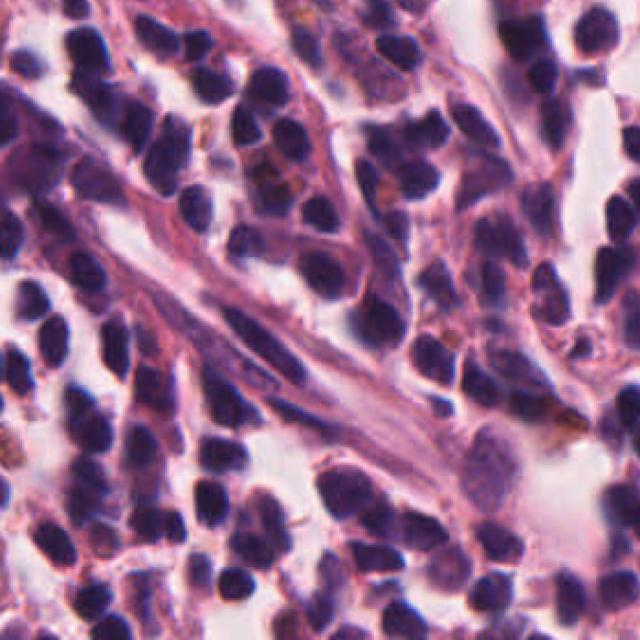fibroblast: (160, 297, 279, 403), (216, 299, 310, 387), (260, 394, 343, 443), (279, 18, 321, 78), (130, 312, 167, 361)
macrophage: (337, 33, 411, 106), (515, 170, 567, 250), (453, 159, 513, 213), (471, 212, 528, 266), (429, 542, 469, 587)
plasma_cell: (202, 376, 257, 434), (128, 354, 176, 418), (61, 16, 110, 78), (347, 297, 402, 352), (392, 500, 447, 554), (315, 467, 370, 521), (95, 308, 138, 376), (495, 9, 546, 64), (26, 512, 75, 565), (462, 565, 512, 616), (248, 162, 293, 217), (471, 511, 521, 560), (125, 565, 161, 633), (570, 0, 616, 53), (343, 534, 403, 574), (592, 562, 640, 611), (194, 427, 244, 474), (130, 7, 176, 58), (378, 594, 429, 640), (488, 343, 539, 388), (403, 332, 449, 381), (29, 195, 75, 244), (66, 571, 112, 620), (189, 470, 231, 523), (589, 244, 625, 305), (171, 179, 211, 232), (293, 252, 343, 294), (356, 489, 396, 540), (416, 257, 453, 312), (33, 308, 68, 363), (301, 182, 339, 232), (469, 261, 506, 312), (601, 480, 638, 531), (11, 277, 51, 323), (534, 95, 567, 150), (361, 230, 398, 279), (524, 53, 567, 95), (70, 73, 112, 115), (189, 64, 231, 106), (403, 108, 444, 150), (75, 452, 116, 494), (460, 359, 497, 405), (275, 113, 312, 159), (224, 532, 270, 569), (229, 98, 266, 144), (248, 64, 288, 106), (158, 113, 194, 159), (601, 190, 633, 241), (141, 142, 174, 191), (378, 33, 420, 69), (68, 250, 101, 295), (394, 159, 435, 195), (226, 221, 262, 261), (314, 547, 348, 587), (266, 487, 288, 547), (180, 26, 216, 62), (359, 124, 392, 160), (303, 583, 334, 620), (510, 388, 550, 416), (121, 106, 143, 155), (385, 204, 413, 241), (64, 379, 95, 412), (132, 511, 165, 542), (123, 430, 156, 461), (180, 551, 207, 587), (352, 159, 376, 199), (79, 418, 112, 447), (222, 567, 249, 598), (565, 330, 592, 361), (165, 507, 183, 549), (530, 263, 557, 290), (66, 485, 84, 525), (592, 414, 614, 441)
unlabeled: (451, 425, 515, 511), (2, 135, 66, 195), (73, 153, 123, 199), (453, 100, 495, 142), (416, 390, 453, 423), (204, 151, 235, 173)
